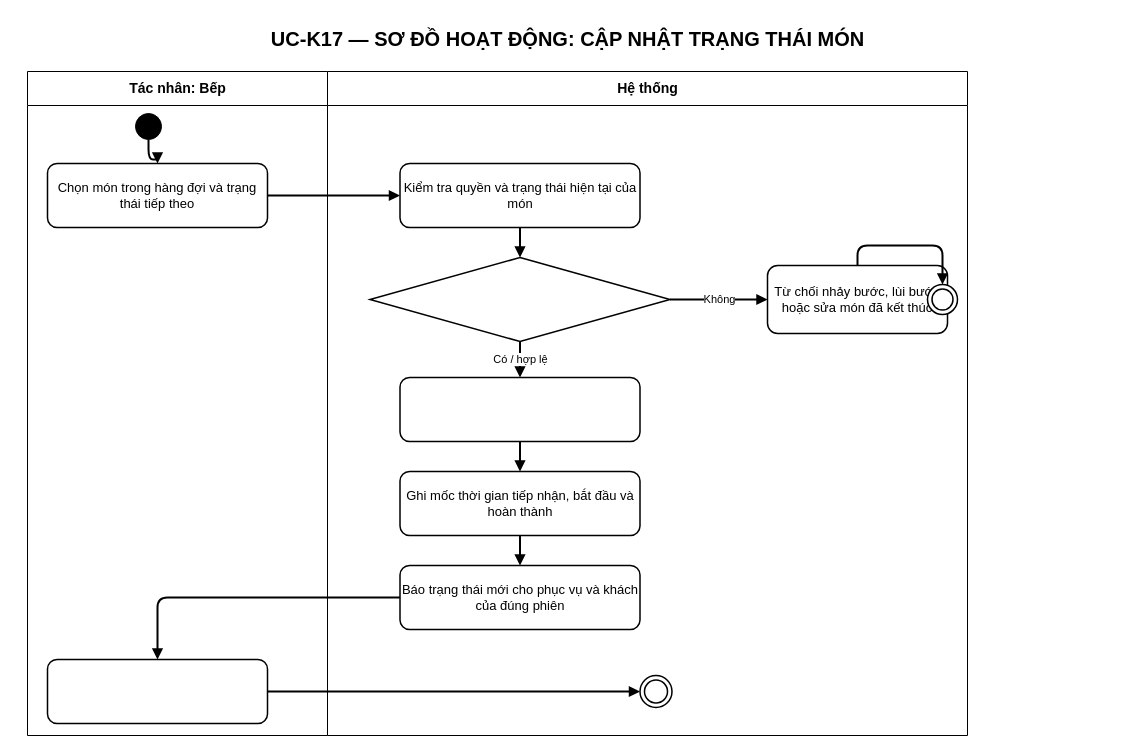
Image size: 1134x753. Some labels were removed from this diagram. The centre of each missing label's shape, as x and y in pixels:
Bước chuyển trạng thái hợp lệ?: pixel 519 299
Ghi trạng thái mới kèm lịch sử thay đổi: pixel 519 409
Món chuyển sang cột tương ứng trên hàng đợi: pixel 157 691
